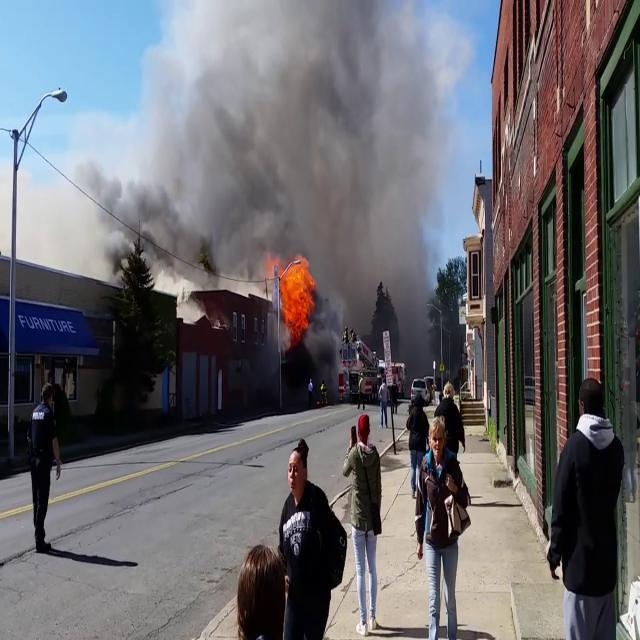Fire: (271, 251, 319, 336)
Smoke: (129, 0, 450, 296), (72, 135, 204, 280)
